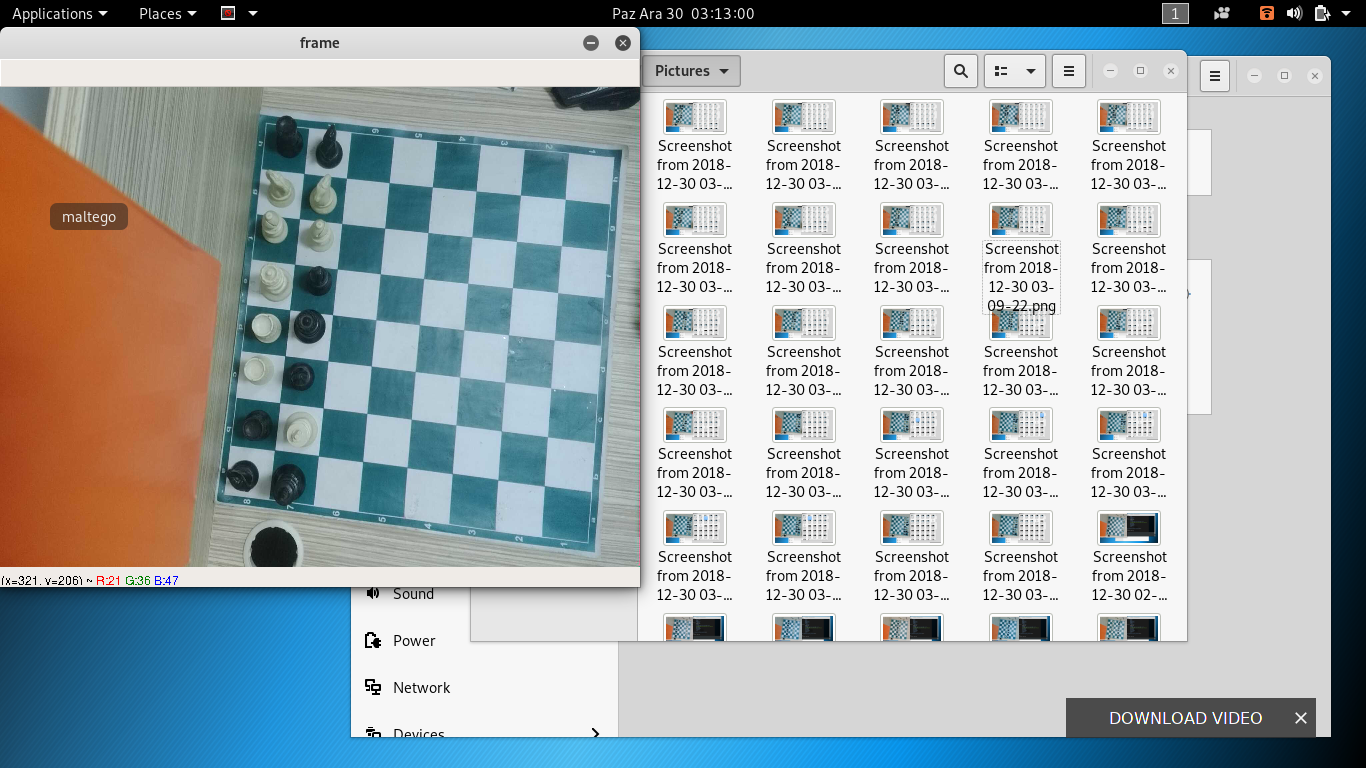BeyazAt: (306, 175, 339, 215), (266, 169, 296, 207)
BeyazFil: (260, 209, 289, 243), (305, 217, 334, 250)
BeyazKale: (252, 311, 282, 344), (243, 354, 274, 385)
BeyazSah: (285, 410, 318, 450)
BeyazVezir: (258, 264, 295, 303)
SiyahAt: (226, 458, 260, 493), (317, 125, 344, 169)
SiyahFil: (286, 361, 316, 390), (305, 267, 331, 296)
SiyahKale: (270, 116, 304, 158), (240, 411, 271, 439)
SiyahSah: (271, 462, 306, 506)
SiyahVezir: (293, 308, 325, 340)
